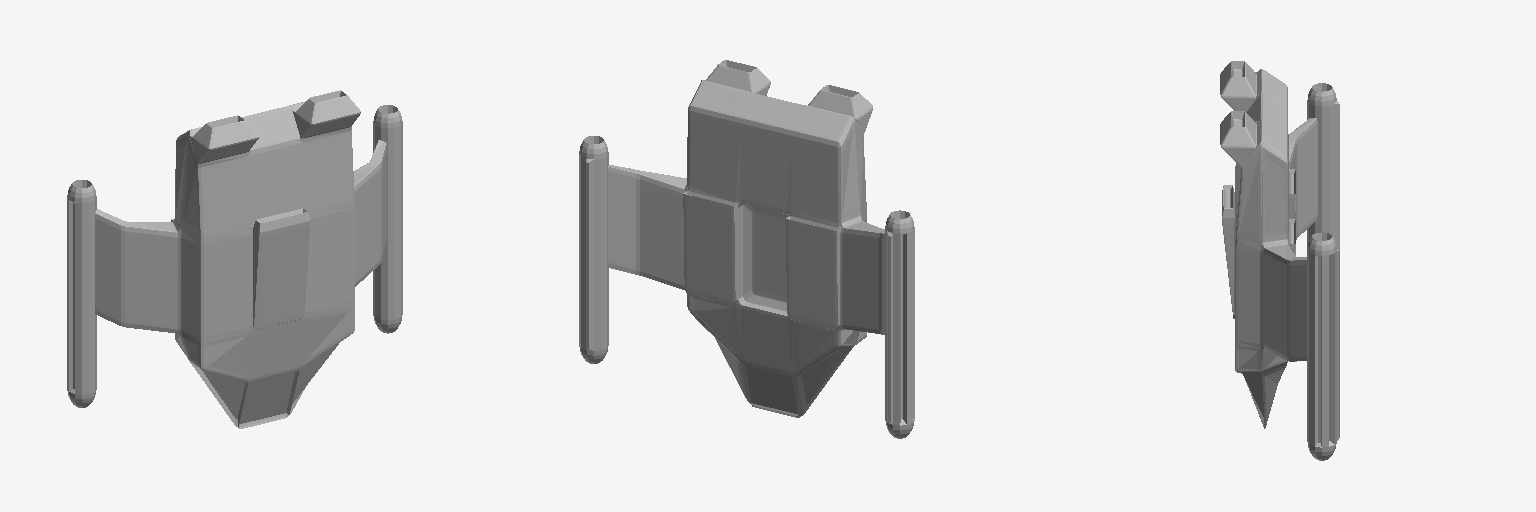
Rendered from BEFighter2.obj.
3 renders of one model, left to right at view 1: azimuth 30°, elevation 25°; view 2: azimuth 150°, elevation 25°; view 3: azimuth 270°, elevation 25°, orthographic.
Visible parts, largest first — view 1: Fuselage, Nacelles, canopy; view 2: Fuselage, Nacelles; view 3: Fuselage, Nacelles.
Boxes of the visible parts, x1,y1,x2,y2 form: Fuselage: [95, 90, 386, 428]; Nacelles: [67, 105, 402, 407]; canopy: [201, 343, 338, 423]; Fuselage: [608, 60, 884, 417]; Nacelles: [579, 136, 914, 438]; Fuselage: [1220, 61, 1317, 428]; Nacelles: [1307, 83, 1339, 460].
Size of the model in its own units: 235 by 220 by 73.24.